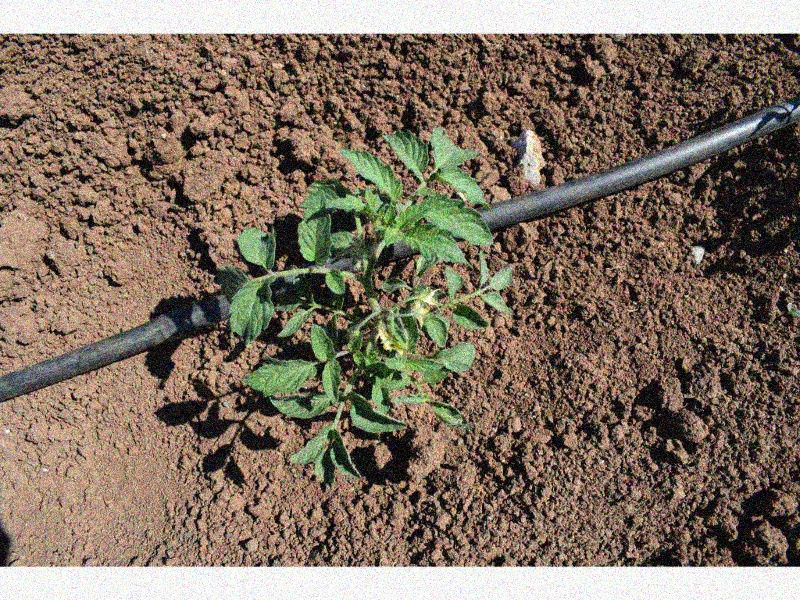tomato: (216, 124, 517, 488)
